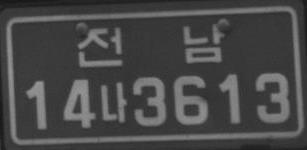1: (215, 72, 246, 124), (23, 79, 53, 130)
3: (254, 71, 291, 124), (132, 75, 167, 128)
4: (62, 77, 96, 129)
6: (172, 74, 209, 126)
나: (99, 81, 127, 123)
전남_D: (77, 22, 225, 69)
